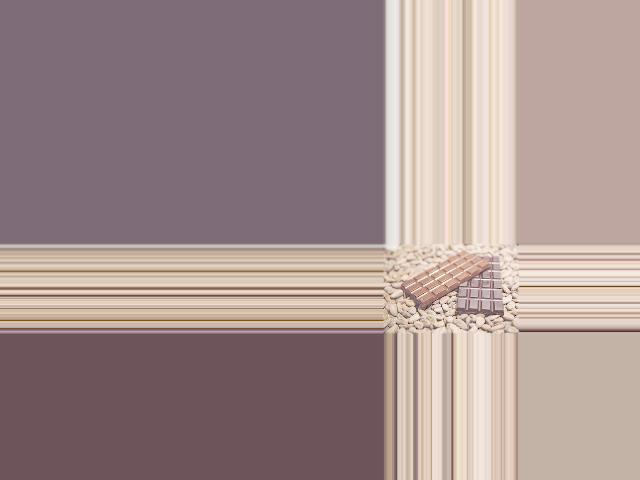chocolate: (456, 252, 509, 317)
